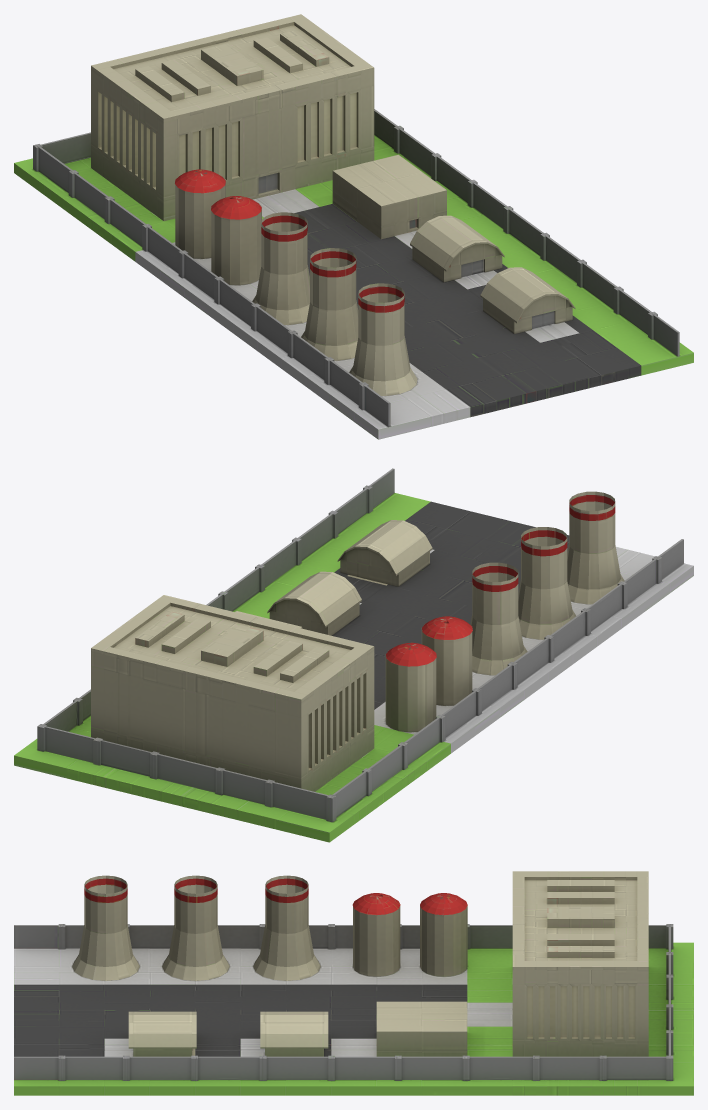
Rendered from nuclear2.glb.
3 views of the same model, one above another, from view 1: azimuth 30°, elevation 25°; view 2: azimuth 150°, elevation 25°; view 3: azimuth 270°, elevation 25° (orthographic). The views are drawn at different scales.
Parts seen in each view (by area): view 1: Cube; view 2: Cube; view 3: Cube.
Part boxes in pixels (x1=…): Cube: x1=14, y1=14, x2=693, y2=439; Cube: x1=14, y1=468, x2=693, y2=842; Cube: x1=14, y1=871, x2=693, y2=1095.
Size of the model in its own units: 8 by 2.88 by 16.
Materials: 8 (8 with a texture image).
